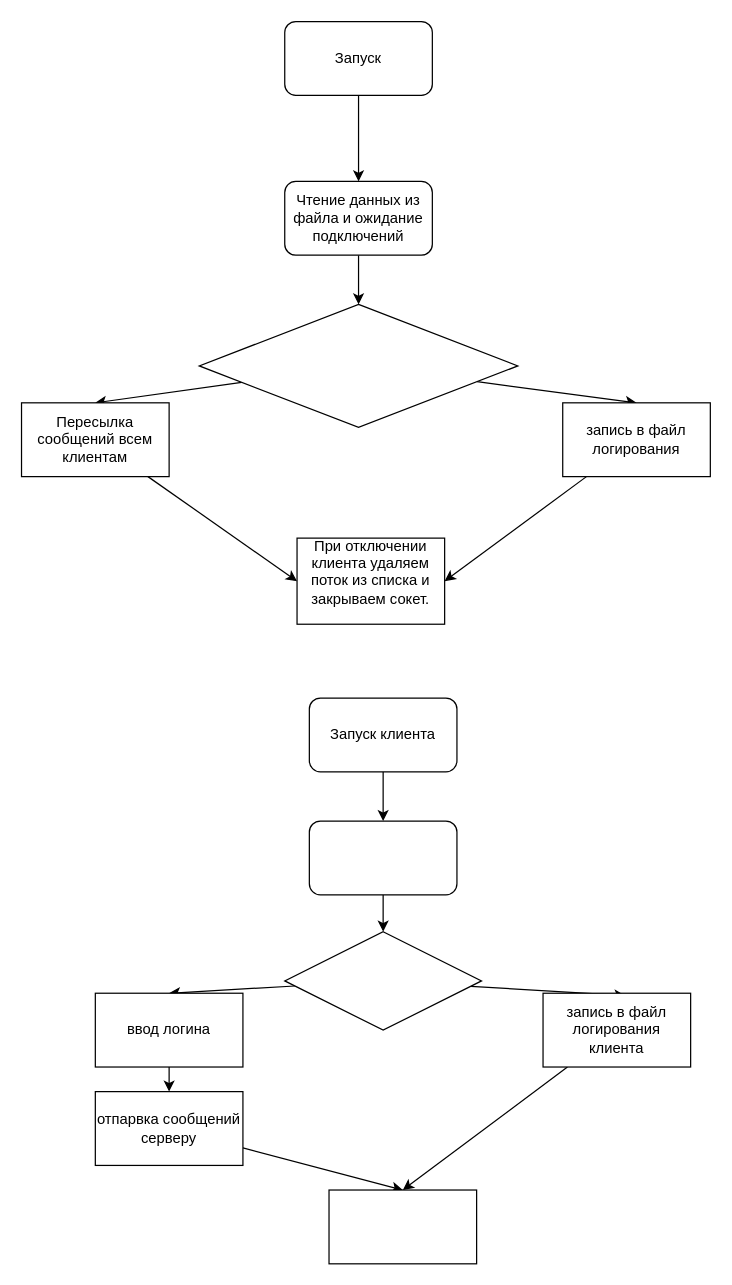
Some shapes in this 732 by 1285 pixel diagram are drawn without their labels. Here are the shapes that lost their labels. From the top down, the centre of each, then its label:
[358,365]: При подключении клиента
[382,857]: Чтение данных подключения из файла
[383,980]: Подключение к серверу
[402,1226]: при вводе "/*exit" отключение от сервера и завершение работы.
